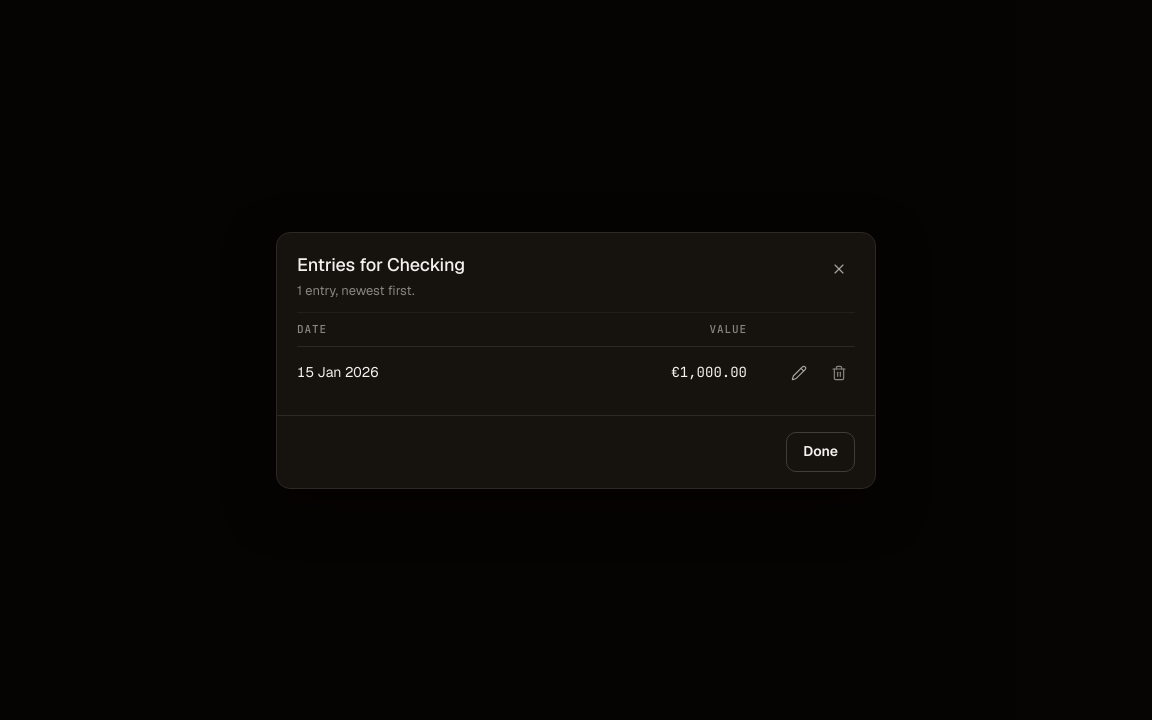
Test: MeasurementHistoryModal › warns when deleting the only remaining measurement for a source
Click the button named "Delete entry from 15 Jan 2026" at (839, 372), box [823,356,855,388]
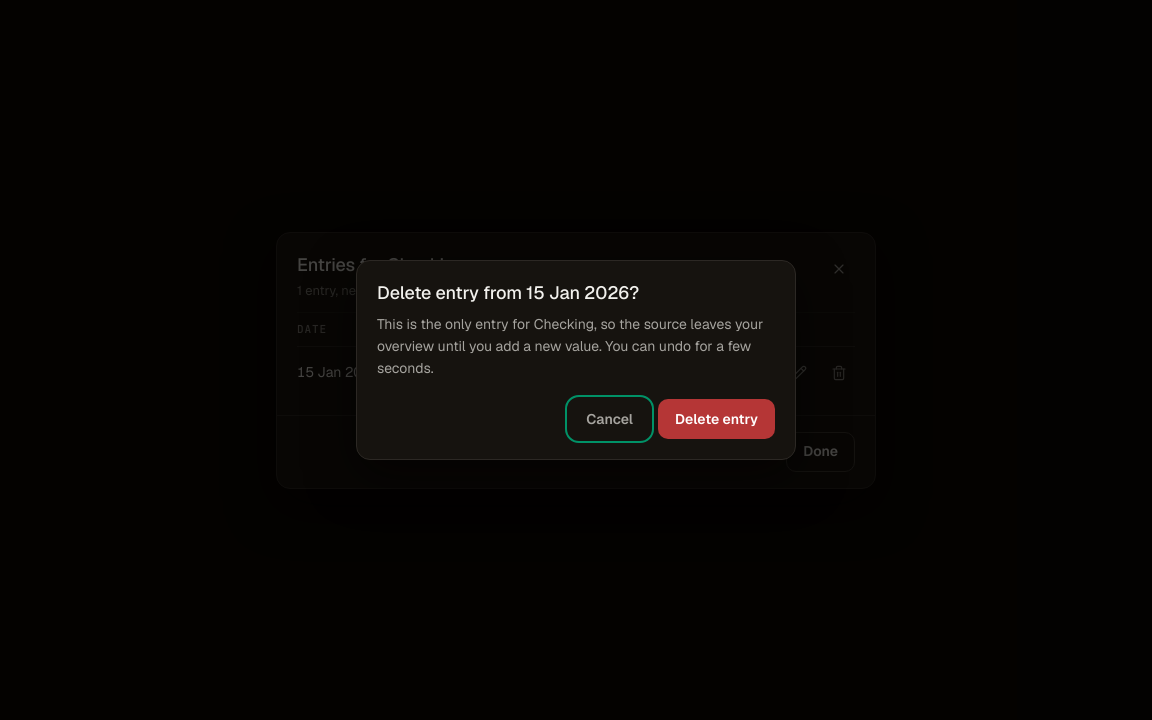
Result: the text "This is the only entry for Checking" is shown at [377,315,763,377]
